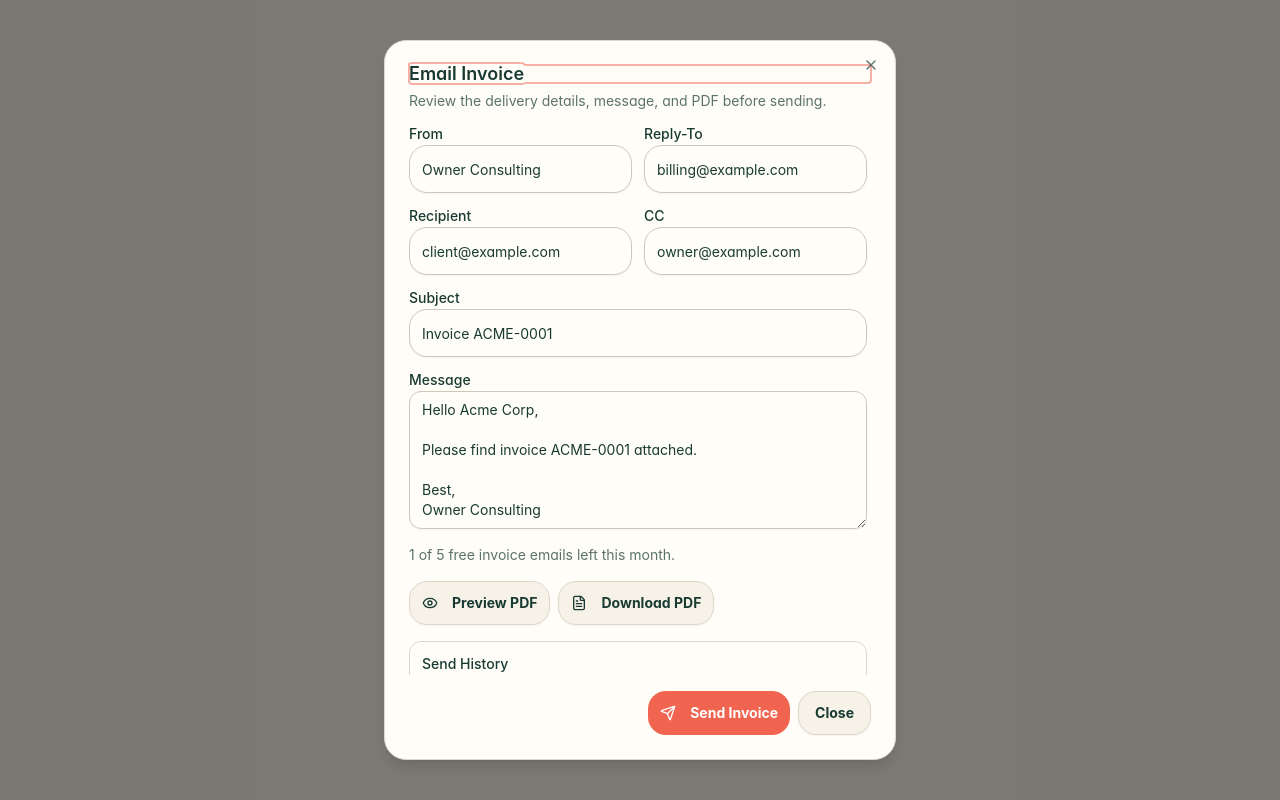
Test: EmailInvoiceDialog — editable delivery and result states (R2/R3/R5) › shows the Free limit message with an upgrade link instead of Retry
Check: the text "1 of 5 free invoice emails left this month." is shown, box [409,546,675,563]
Check: the field labelled "Subject" is not empty, box [409,309,867,357]
Click the button "Send Invoice" at (719, 713), box [648,691,790,735]
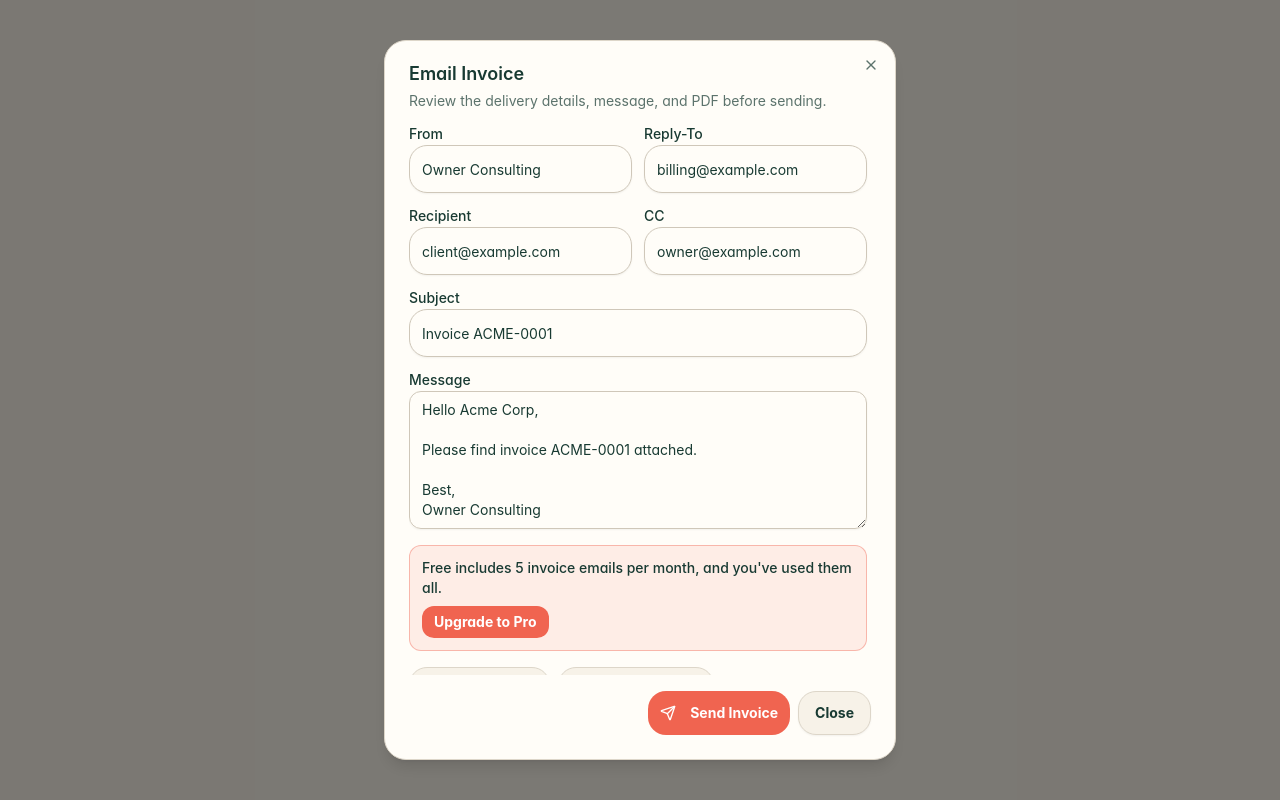
Check: the message shows "you've used them all", box [422,559,852,596]
